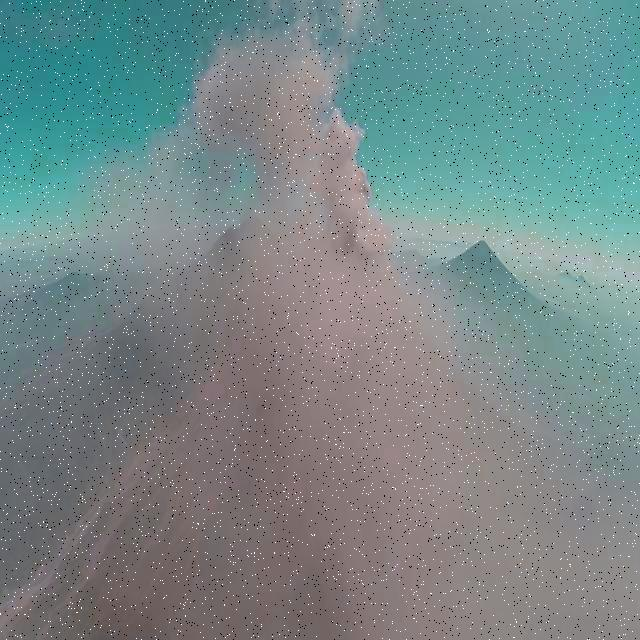Plume: (225, 253, 640, 640), (192, 3, 398, 243)
